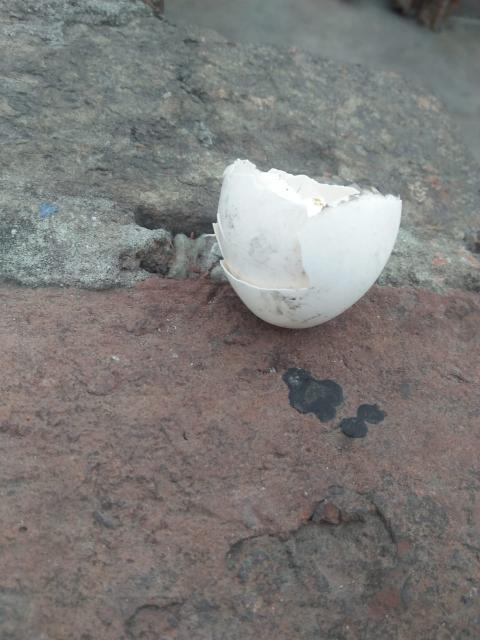Roto: (212, 157, 403, 330)
